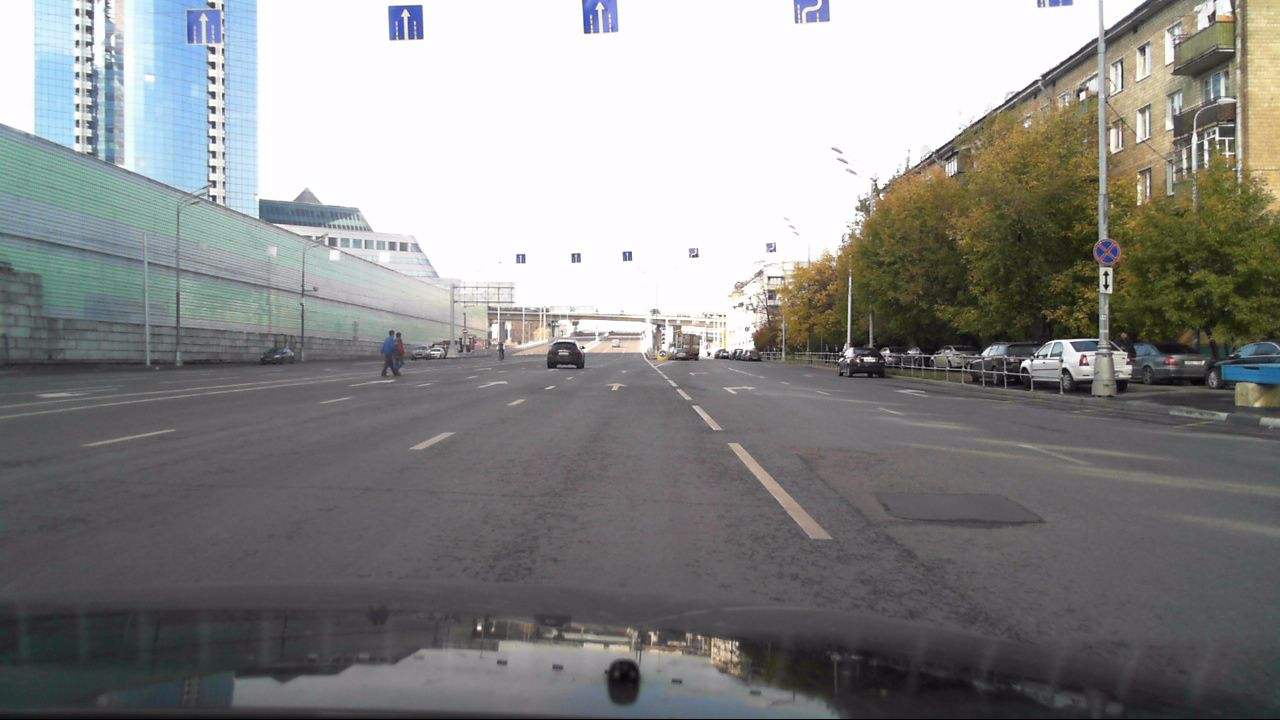No Parking: (1091, 236, 1123, 264)
